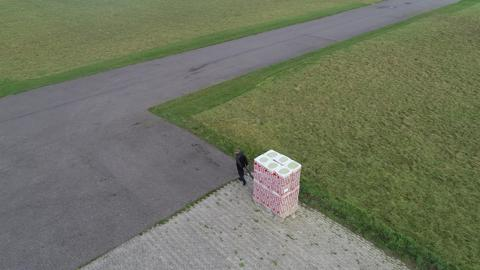RockwoolPallet: (252, 149, 303, 218)
